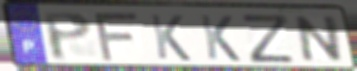F: (92, 11, 142, 64)
K: (197, 13, 243, 63), (147, 13, 193, 63)
N: (294, 14, 346, 64)
P: (39, 11, 94, 63)
Z: (239, 12, 298, 65)
